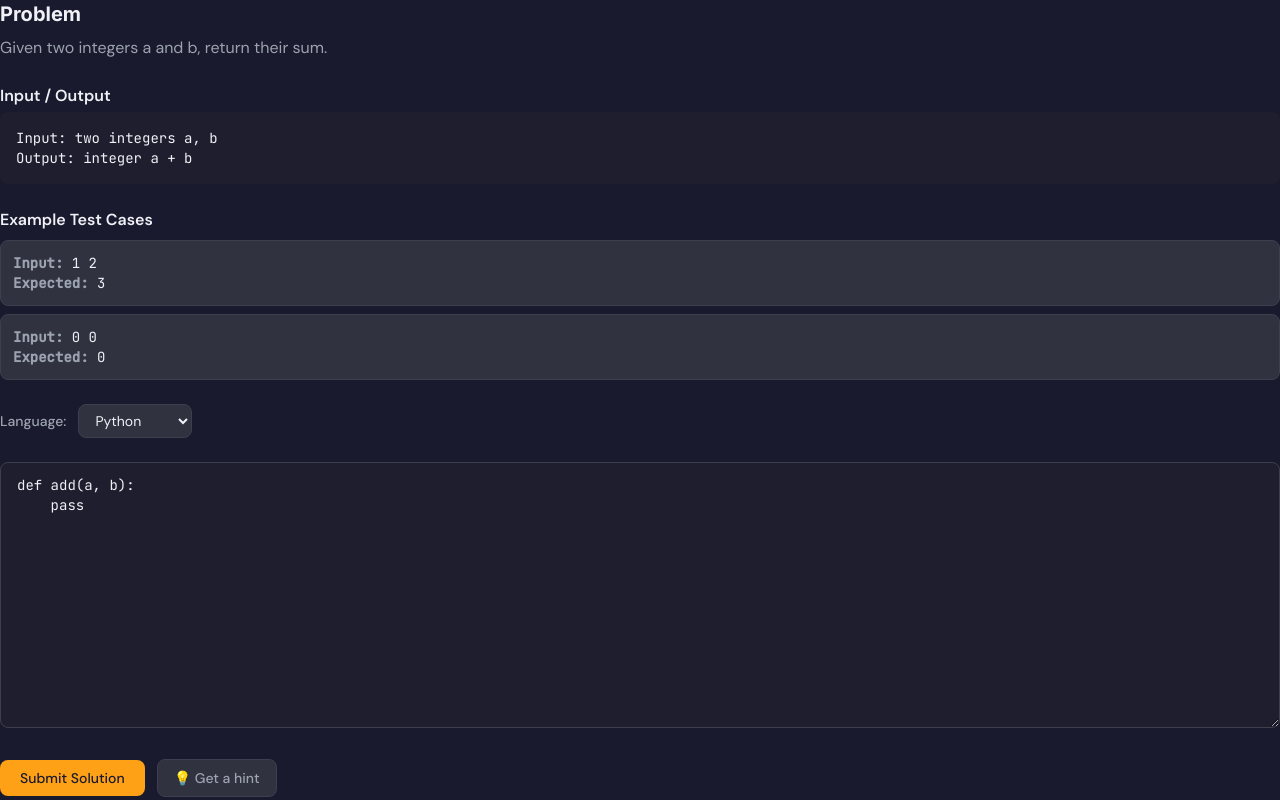
CodeChallenge › displays per-test-case pass/fail results on partial failure
The image size is (1280, 800).
Click the button labelled "Submit Solution".
click(72, 778)  # box [0, 760, 145, 796]
(page scrolled)
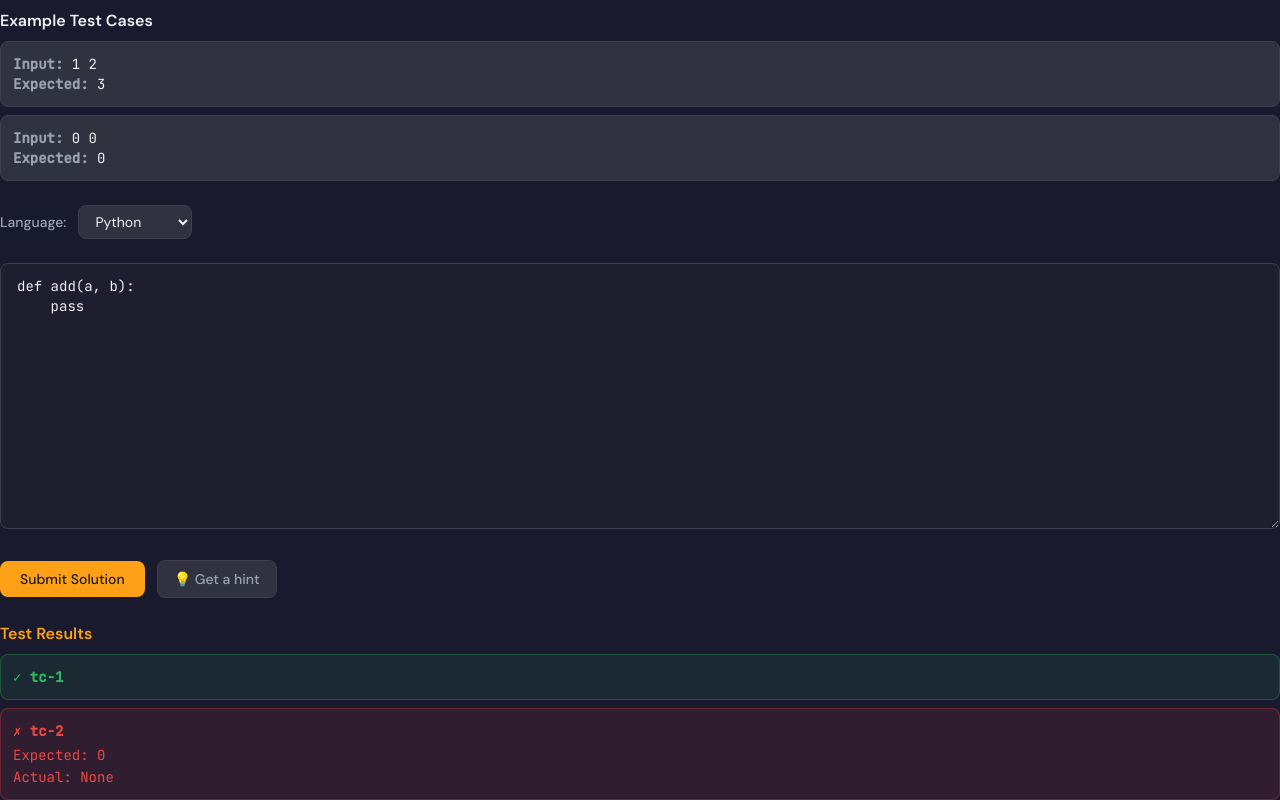
Now the text "Test Results" is shown, box [0, 623, 92, 644]
Now the text "✓ tc-1" is shown, box [13, 668, 64, 686]
Now the text "✗ tc-2" is shown, box [13, 722, 64, 740]
